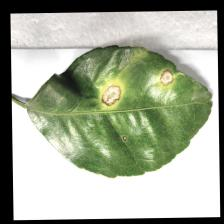canker: (83, 61, 185, 124)
